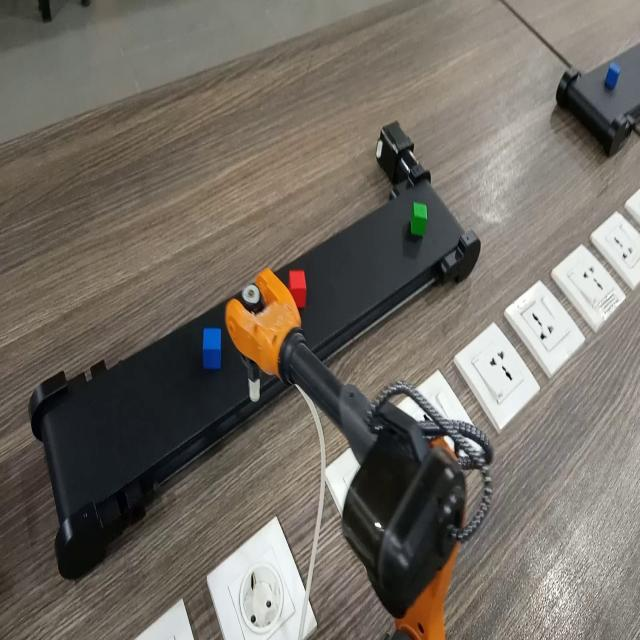cube: (196, 323, 229, 374), (403, 200, 436, 246), (287, 262, 313, 307), (604, 57, 621, 94)
